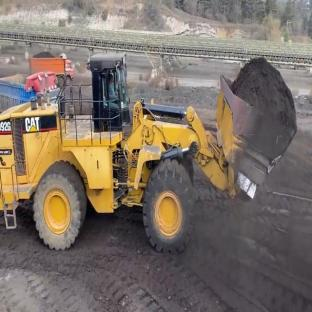ExcavationMachinery: (75, 42, 282, 263)
